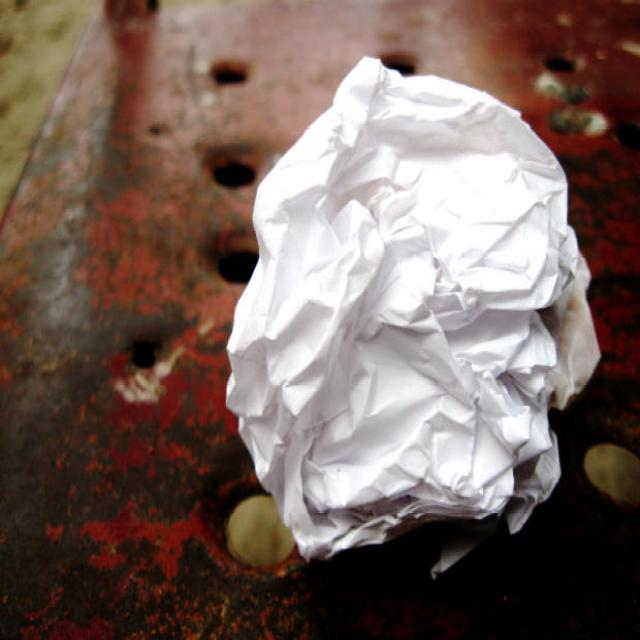paper: (218, 81, 581, 545)
